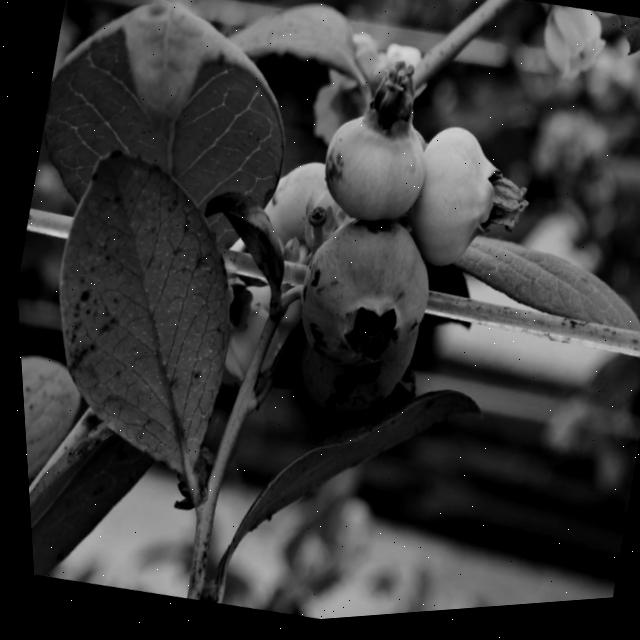RipeBlueBerry: (279, 206, 443, 389)
Semi-RipeBlueBerry: (306, 99, 437, 240)
UnripeBlueBerry: (396, 122, 514, 286)
